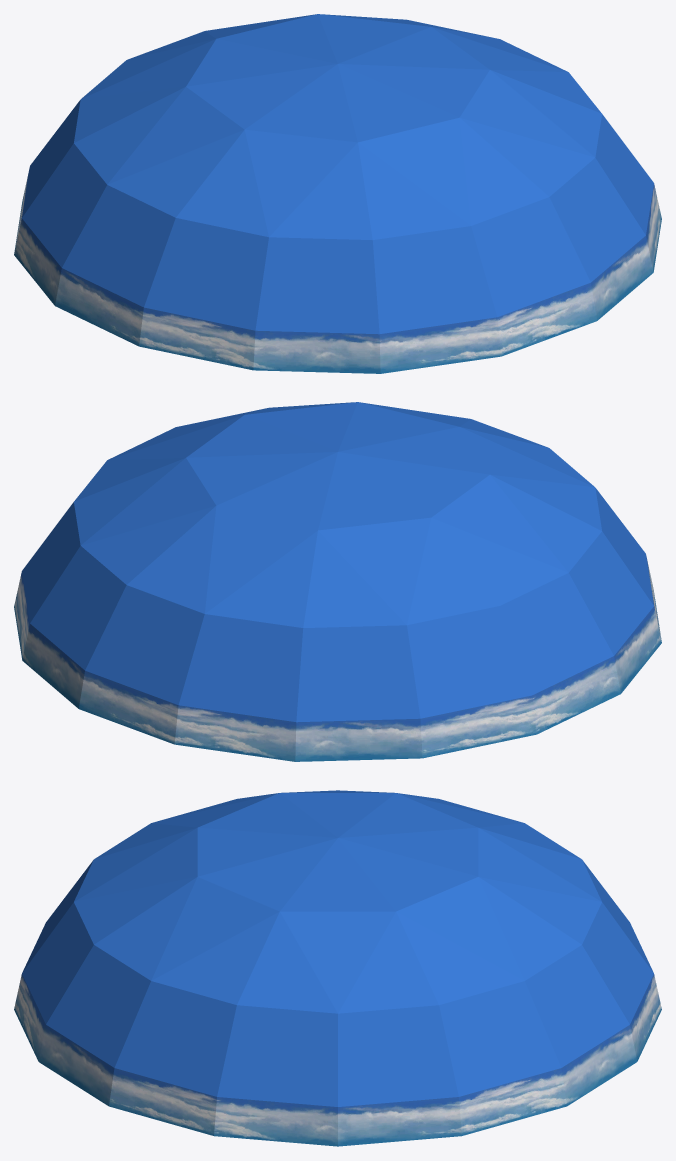
3 renders of one model, top to bottom at view 1: azimuth 30°, elevation 25°; view 2: azimuth 150°, elevation 25°; view 3: azimuth 270°, elevation 25°, orthographic.
Visible parts, largest first — view 1: s03_dn_10_1, s03_dn_10_0; view 2: s03_dn_10_1, s03_dn_10_0; view 3: s03_dn_10_1, s03_dn_10_0.
Boxes of the visible parts, bbox=[...] form: s03_dn_10_1: bbox=[22, 14, 653, 334]; s03_dn_10_0: bbox=[14, 168, 661, 373]; s03_dn_10_1: bbox=[22, 402, 653, 722]; s03_dn_10_0: bbox=[14, 556, 661, 761]; s03_dn_10_1: bbox=[22, 790, 653, 1106]; s03_dn_10_0: bbox=[14, 974, 661, 1146].
Bounding box in the file's own units: 100000 × 29220 × 100000.
